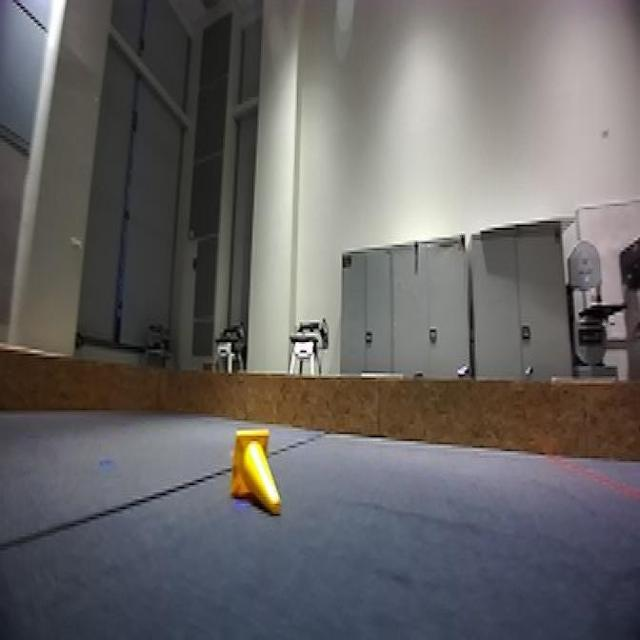frc_cone: (220, 429, 287, 514)
